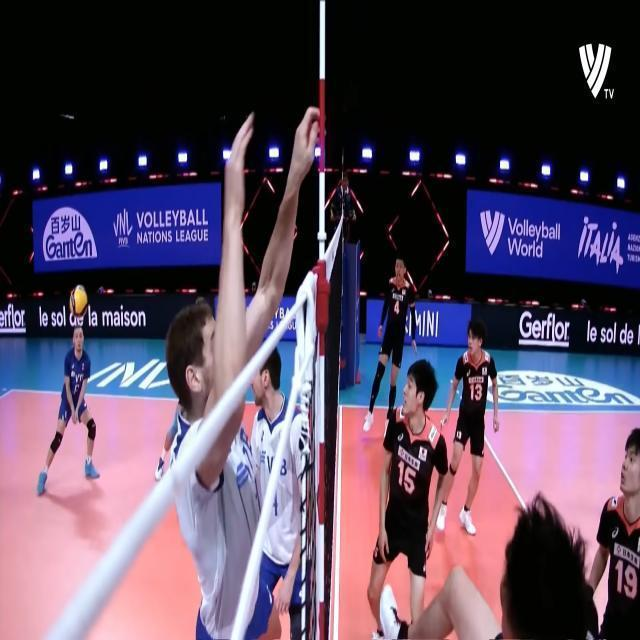volleyball: (68, 285, 88, 318)
